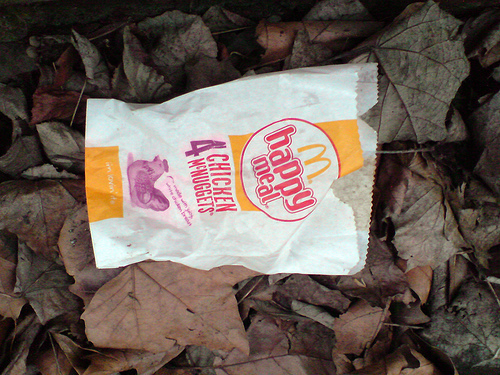litter: (85, 62, 381, 275)
